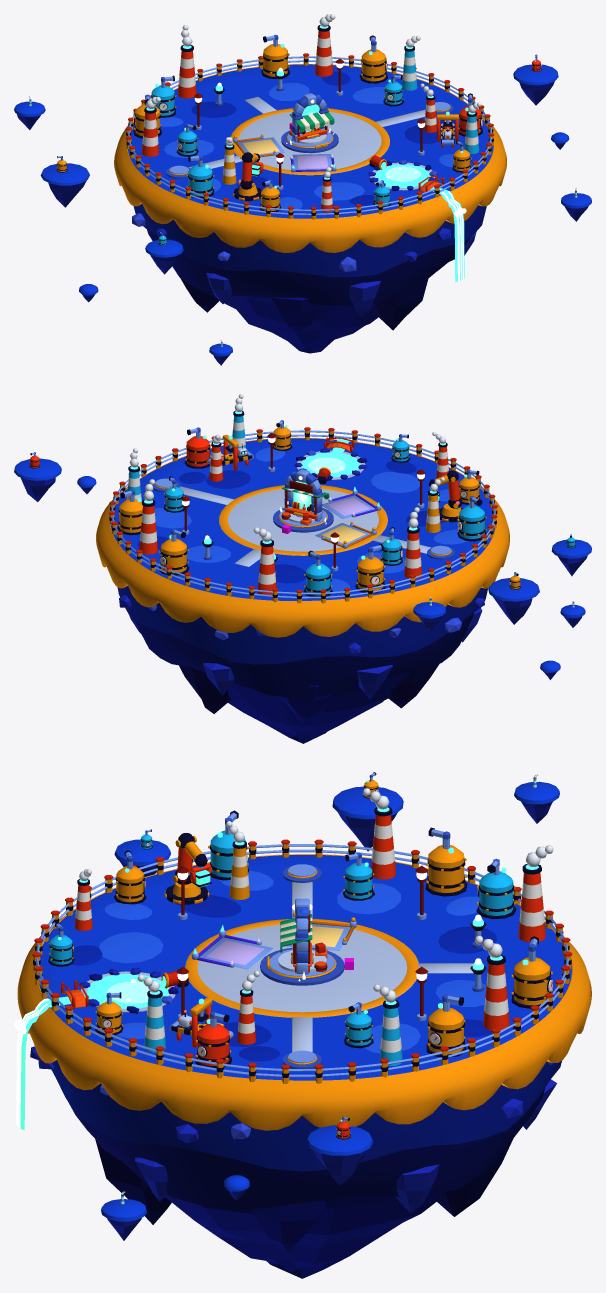
The model's file is robot_factory_island.fbx.
The picture shows the model from 3 angles, top to bottom: view 1: azimuth 30°, elevation 25°; view 2: azimuth 150°, elevation 25°; view 3: azimuth 270°, elevation 25°; orthographic projection. The views are drawn at different scales.
Visible parts, largest first — view 1: RobotFactory_Island, RobotFactory_Trees, RobotFactory_Dressing, RobotFactory_Paths, RobotFactory_FloatingRocks, RobotFactory_Glow, RobotFactory_BossPlinth, RobotFactory_Stall, RobotFactory_Portal; view 2: RobotFactory_Island, RobotFactory_Trees, RobotFactory_Dressing, RobotFactory_Paths, RobotFactory_FloatingRocks, RobotFactory_Glow, RobotFactory_Portal, RobotFactory_Stall, RobotFactory_BossPlinth; view 3: RobotFactory_Island, RobotFactory_Trees, RobotFactory_Paths, RobotFactory_Dressing, RobotFactory_FloatingRocks, RobotFactory_Glow, RobotFactory_BossPlinth, RobotFactory_Stall, RobotFactory_Portal.
Part boxes in pixels (<box>): RobotFactory_Island: <box>114,64,506,353</box>; RobotFactory_Trees: <box>133,14,482,212</box>; RobotFactory_Dressing: <box>125,53,494,219</box>; RobotFactory_Paths: <box>166,97,453,178</box>; RobotFactory_FloatingRocks: <box>14,54,591,365</box>; RobotFactory_Glow: <box>30,25,576,342</box>; RobotFactory_BossPlinth: <box>281,130,338,153</box>; RobotFactory_Stall: <box>289,112,334,142</box>; RobotFactory_Portal: <box>286,93,334,144</box>; RobotFactory_Island: <box>96,437,509,743</box>; RobotFactory_Trees: <box>117,394,486,596</box>; RobotFactory_Dressing: <box>109,427,497,603</box>; RobotFactory_Paths: <box>152,478,455,566</box>; RobotFactory_FloatingRocks: <box>14,452,591,679</box>; RobotFactory_Glow: <box>37,411,572,598</box>; RobotFactory_Portal: <box>279,469,326,524</box>; RobotFactory_Stall: <box>281,480,329,525</box>; RobotFactory_BossPlinth: <box>273,507,333,532</box>; RobotFactory_Island: <box>17,854,591,1278</box>; RobotFactory_Trees: <box>48,788,553,1068</box>; RobotFactory_Paths: <box>185,864,473,1068</box>; RobotFactory_Dressing: <box>32,833,572,1083</box>; RobotFactory_FloatingRocks: <box>101,772,559,1240</box>; RobotFactory_Glow: <box>14,778,538,1194</box>; RobotFactory_BossPlinth: <box>260,947,344,985</box>; RobotFactory_Stall: <box>280,910,327,972</box>; RobotFactory_Portal: <box>292,898,312,981</box>.
Size of the model in its own units: 181 by 95.16 by 123.
